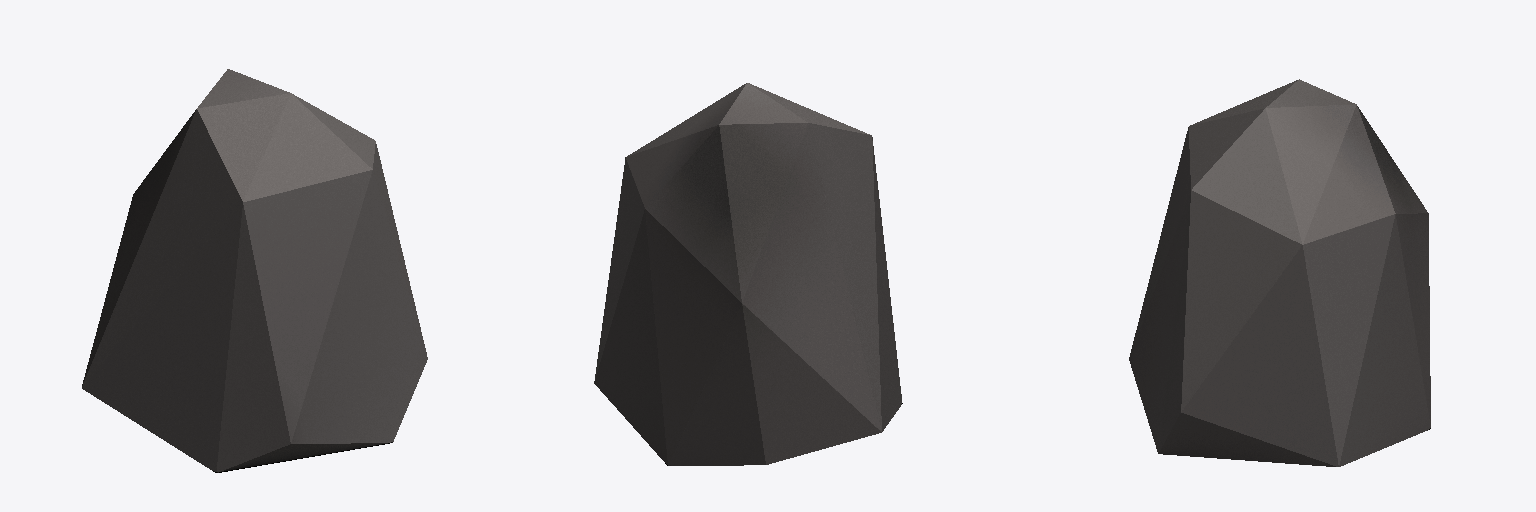
3 views of the same model, side by side, from view 1: azimuth 30°, elevation 25°; view 2: azimuth 150°, elevation 25°; view 3: azimuth 270°, elevation 25° (orthographic).
Visible parts, largest first — view 1: Rock4_Cylinder.019; view 2: Rock4_Cylinder.019; view 3: Rock4_Cylinder.019.
Part boxes in pixels (x1,y1,x2,y2): Rock4_Cylinder.019: (82, 69, 427, 472); Rock4_Cylinder.019: (594, 83, 902, 465); Rock4_Cylinder.019: (1129, 79, 1430, 466).
Size of the model in its own units: 3.73 by 3.98 by 3.38.
Materials: 1 (1 with a texture image).